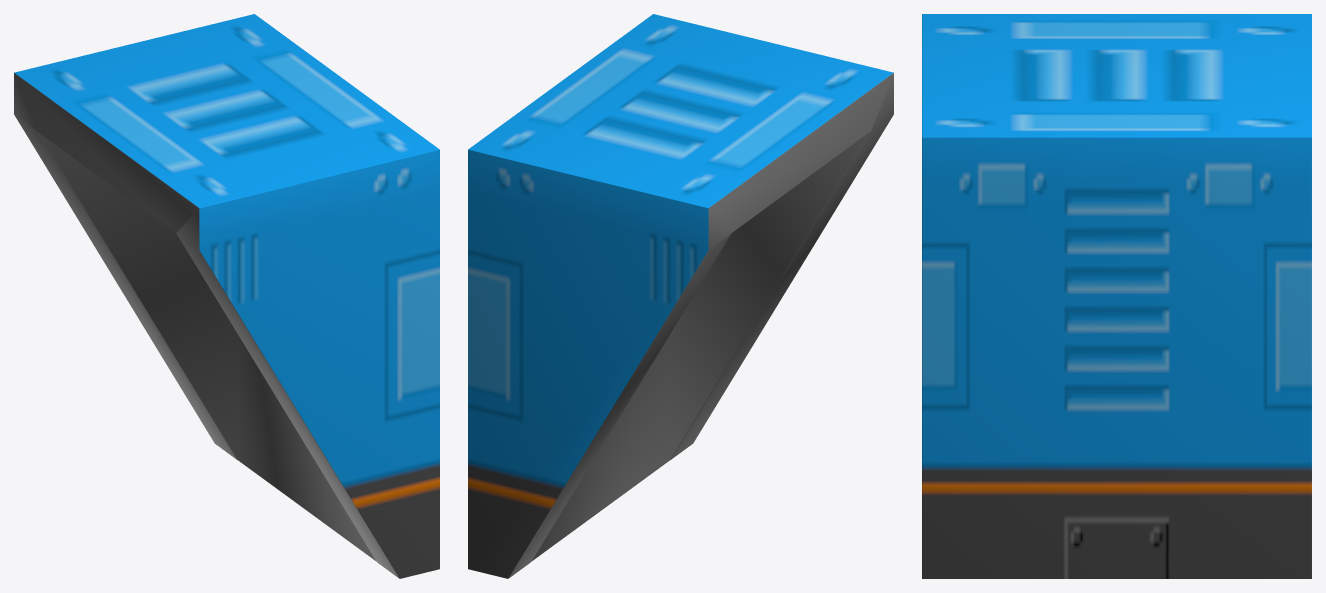
Rendered from nuclear2_alt.obj.
3 views of the same model, side by side, from view 1: azimuth 30°, elevation 25°; view 2: azimuth 150°, elevation 25°; view 3: azimuth 270°, elevation 25° (orthographic). The views are drawn at different scales.
Parts seen in each view (by area): view 1: ColobotMesh_1_ColobotMesh_; view 2: ColobotMesh_1_ColobotMesh_; view 3: ColobotMesh_1_ColobotMesh_.
Part boxes in pixels (bbox=[...]): ColobotMesh_1_ColobotMesh_: bbox=[14, 14, 439, 578]; ColobotMesh_1_ColobotMesh_: bbox=[468, 14, 893, 578]; ColobotMesh_1_ColobotMesh_: bbox=[922, 14, 1311, 578].
Size of the model in its own units: 6 by 10 by 8.
